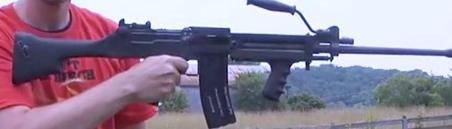gun: (1, 1, 452, 129)
